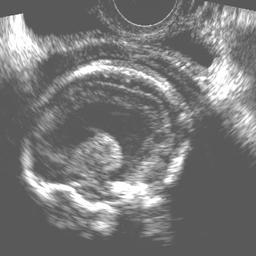abnormal: (24, 60, 192, 218)
